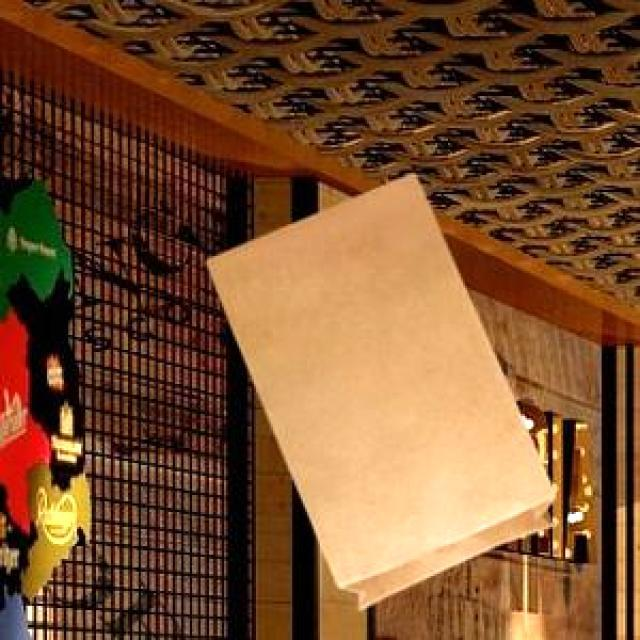Paper_Bag: (204, 172, 552, 607)
